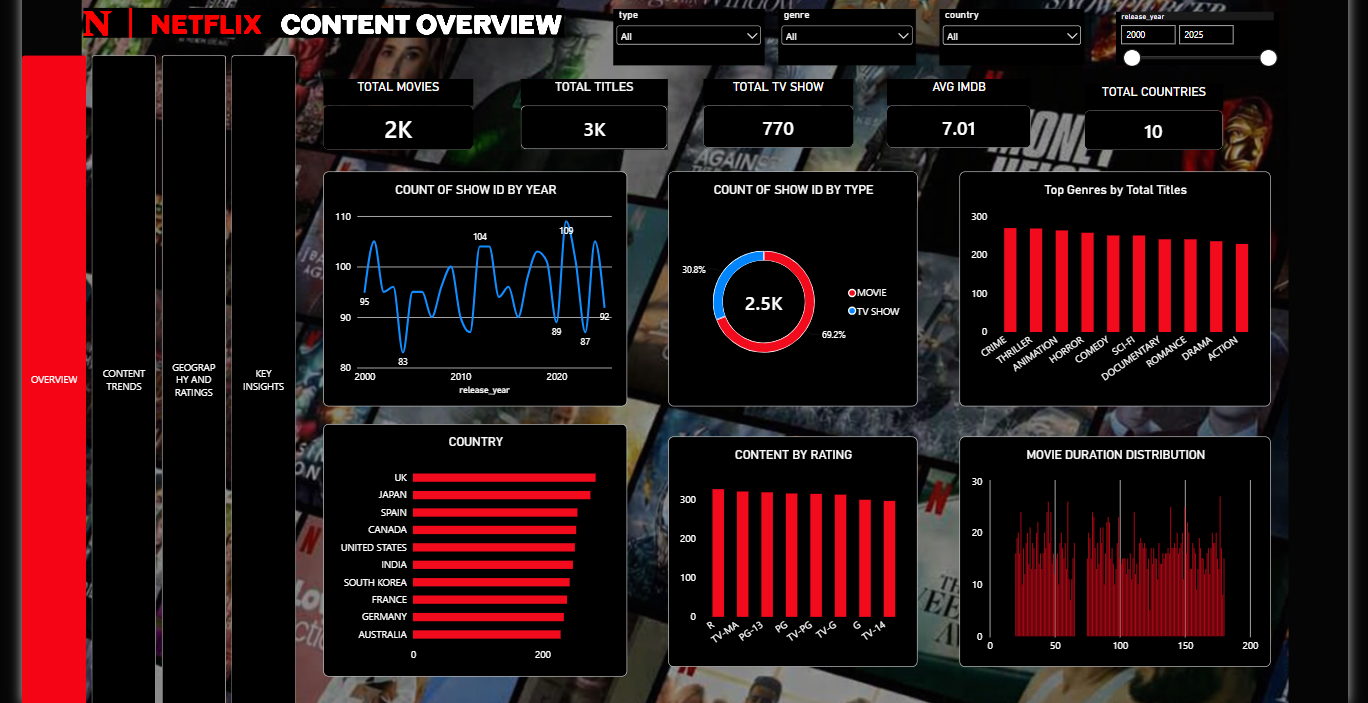

This screenshot's page, from the dashboard's own definition file:
{"tool":"powerbi","page":{"name":"OVERVIEW","canvas":[1920,1080],"ordinal":0},"visuals":[{"type":"image","box":[0,2.1,1920,1079],"z":0},{"type":"cardVisual","title":"TOTAL MOVIES","fields":{"Data":["netflix_real_time_project_dataset.total Movies"]},"box":[436.1,296.8,217.2,103.2],"z":1000},{"type":"cardVisual","title":"TOTAL TITLES","fields":{"Data":["netflix_real_time_project_dataset.Total Titles"]},"box":[436.1,439.7,217.2,121.2],"z":2000},{"type":"cardVisual","title":"TOTAL TV SHOW","fields":{"Data":["netflix_real_time_project_dataset.total TV Shows"]},"box":[436.1,617.1,217.2,99.5],"z":3000},{"type":"cardVisual","title":"AVG IMDB","fields":{"Data":["netflix_real_time_project_dataset.Avg IMBD"]},"box":[436.1,781.8,217.2,117.6],"z":4000},{"type":"donutChart","title":"COUNT OF SHOW ID BY TYPE","fields":{"Category":["netflix_real_time_project_dataset.type"],"Y":["CountNonNull(netflix_real_time_project_dataset.show_id)"]},"box":[1328.3,260.6,508.5,340.2],"z":5000},{"type":"columnChart","title":"COUNT OF SHOW ID BY YEAR","fields":{"Category":["netflix_real_time_project_dataset.release_year"],"Y":["CountNonNull(netflix_real_time_project_dataset.show_id)"]},"box":[722.1,260.6,571.9,340.2],"z":6000},{"type":"slicer","fields":{"Values":["netflix_real_time_project_dataset.type"]},"box":[856,72.4,219,81.4],"z":7000},{"type":"slicer","fields":{"Values":["netflix_real_time_project_dataset.genre"]},"box":[1094.8,72.4,199.1,81.4],"z":8000},{"type":"slicer","title":"COUNTRY","fields":{"Values":["netflix_real_time_project_dataset.country"]},"box":[1328.3,72.4,209.9,81.4],"z":9000},{"type":"clusteredBarChart","title":"COUNTRY","fields":{"Category":["netflix_real_time_project_dataset.country"],"Y":["CountNonNull(netflix_real_time_project_dataset.show_id)"]},"box":[722.1,635.2,571.9,367.4],"z":10000},{"type":"slicer","fields":{"Values":["netflix_real_time_project_dataset.release_year"]},"box":[1583.5,76,237.1,77.8],"z":11000},{"type":"pageNavigator","box":[0,188.2,389.1,892.2],"z":12000},{"type":"clusteredColumnChart","title":"AVG IMBD SCORE","fields":{"Category":["netflix_real_time_project_dataset.type"],"Y":["Avg(netflix_real_time_project_dataset.imdb_score)"]},"box":[1328.3,647.9,508.5,354.7],"z":13000},{"type":"image","box":[457.8,343.8,32.6,39.8],"z":14000},{"type":"image","box":[436.1,495.8,63.3,43.4],"z":15000},{"type":"image","box":[457.8,647.9,32.6,68.8],"z":16000},{"type":"image","box":[457.8,818,32.6,81.4],"z":17000},{"type":"image","box":[88.7,16.3,696.7,123.1],"z":18000}]}

Visuals, with their boxes on the page's 1920x1080 design canvas (x1, y1, x2, y2). These are canvas units, not pixel positions in the 1368x703 screenshot, which may show the page scaled, cropped or inside an application window:
image: {"left": 0, "top": 2, "right": 1920, "bottom": 1081}
"TOTAL MOVIES" cardVisual: {"left": 436, "top": 297, "right": 653, "bottom": 400}
"TOTAL TITLES" cardVisual: {"left": 436, "top": 440, "right": 653, "bottom": 561}
"TOTAL TV SHOW" cardVisual: {"left": 436, "top": 617, "right": 653, "bottom": 717}
"AVG IMDB" cardVisual: {"left": 436, "top": 782, "right": 653, "bottom": 899}
"COUNT OF SHOW ID BY TYPE" donutChart: {"left": 1328, "top": 261, "right": 1837, "bottom": 601}
"COUNT OF SHOW ID BY YEAR" columnChart: {"left": 722, "top": 261, "right": 1294, "bottom": 601}
slicer - netflix_real_time_project_dataset.type: {"left": 856, "top": 72, "right": 1075, "bottom": 154}
slicer - netflix_real_time_project_dataset.genre: {"left": 1095, "top": 72, "right": 1294, "bottom": 154}
"COUNTRY" slicer: {"left": 1328, "top": 72, "right": 1538, "bottom": 154}
"COUNTRY" clusteredBarChart: {"left": 722, "top": 635, "right": 1294, "bottom": 1003}
slicer - netflix_real_time_project_dataset.release_year: {"left": 1584, "top": 76, "right": 1821, "bottom": 154}
pageNavigator: {"left": 0, "top": 188, "right": 389, "bottom": 1080}
"AVG IMBD SCORE" clusteredColumnChart: {"left": 1328, "top": 648, "right": 1837, "bottom": 1003}
image: {"left": 458, "top": 344, "right": 490, "bottom": 384}
image: {"left": 436, "top": 496, "right": 499, "bottom": 539}
image: {"left": 458, "top": 648, "right": 490, "bottom": 717}
image: {"left": 458, "top": 818, "right": 490, "bottom": 899}
image: {"left": 89, "top": 16, "right": 785, "bottom": 139}
